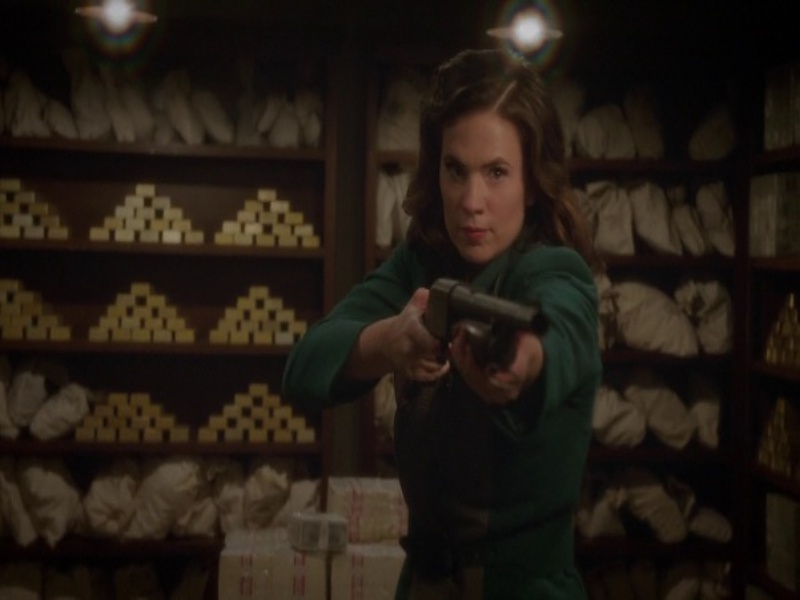person: (293, 49, 586, 597)
